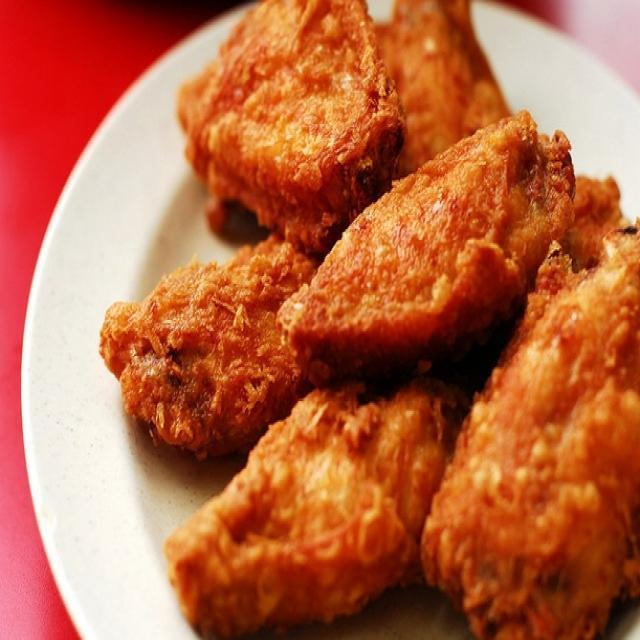Deep fried chicken wing: (111, 22, 631, 604)
